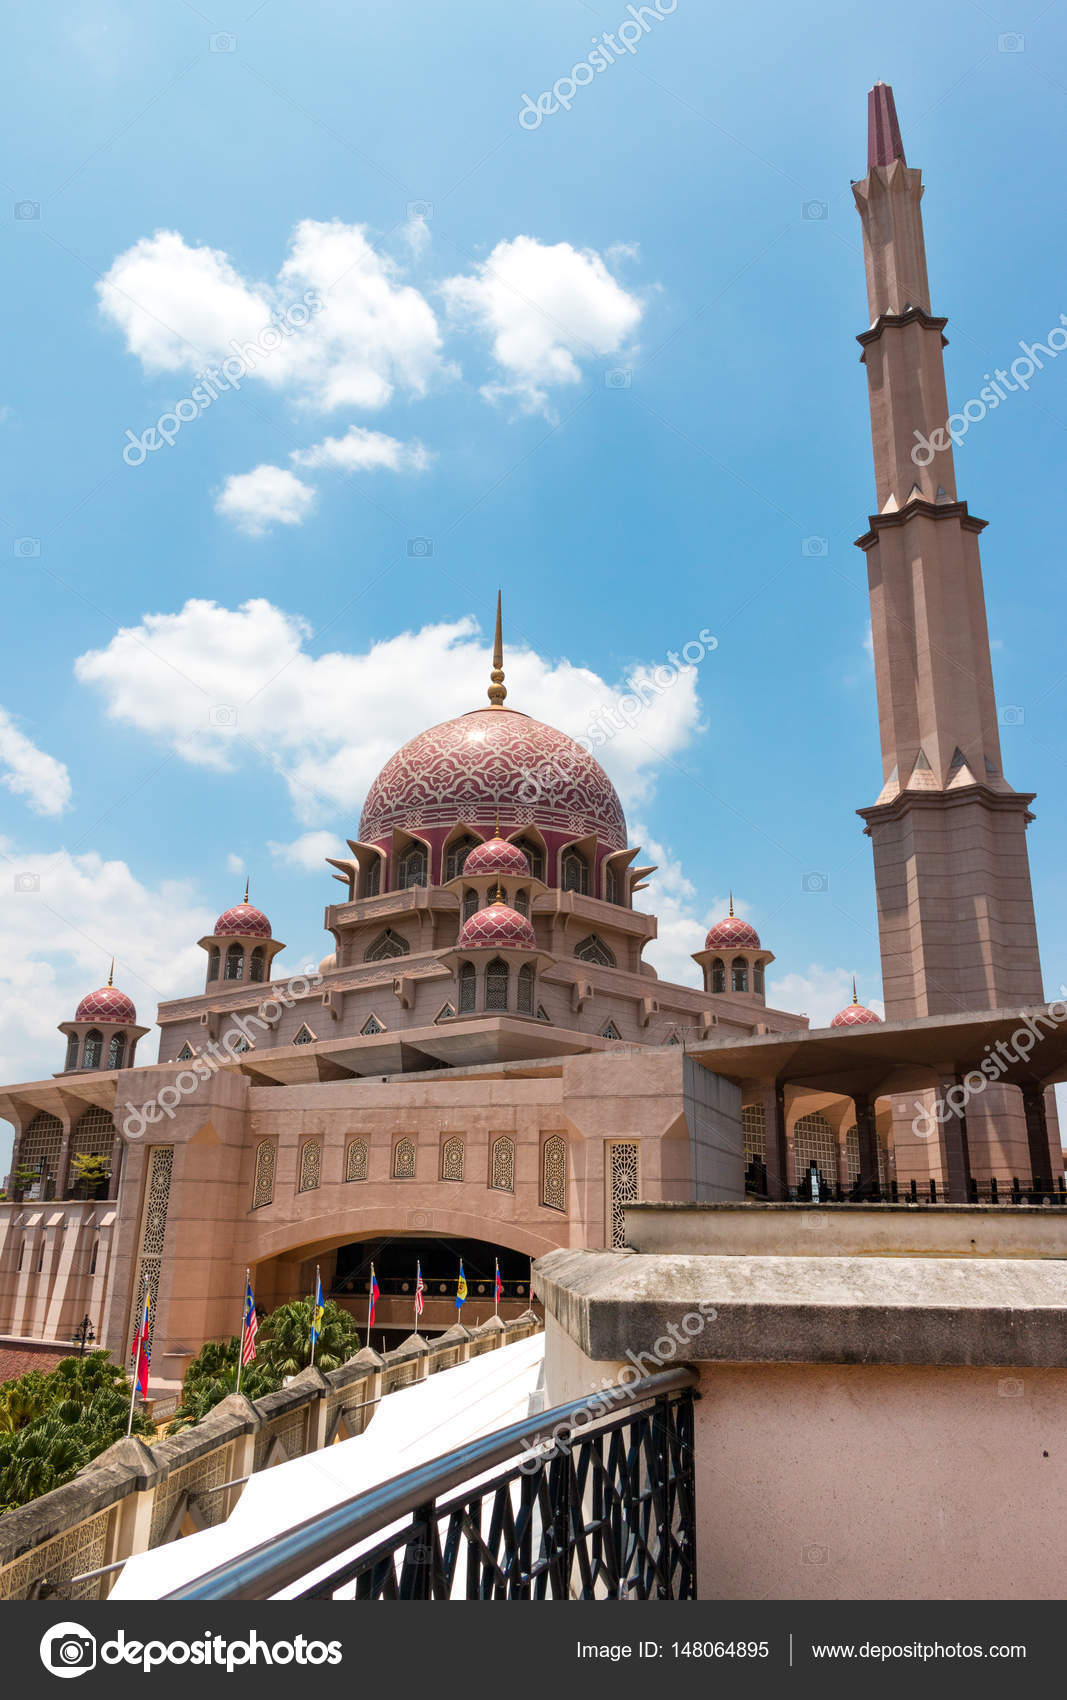Mosque: (61, 66, 1067, 1398)
